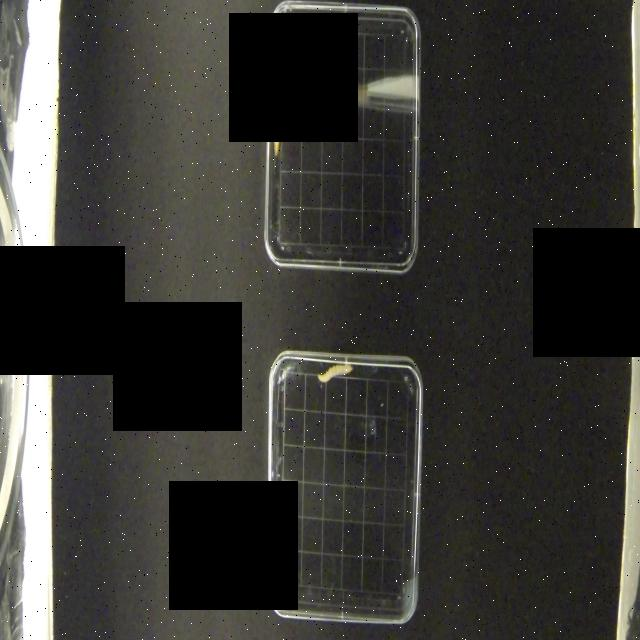larva: (269, 92, 284, 156), (316, 361, 352, 385)
